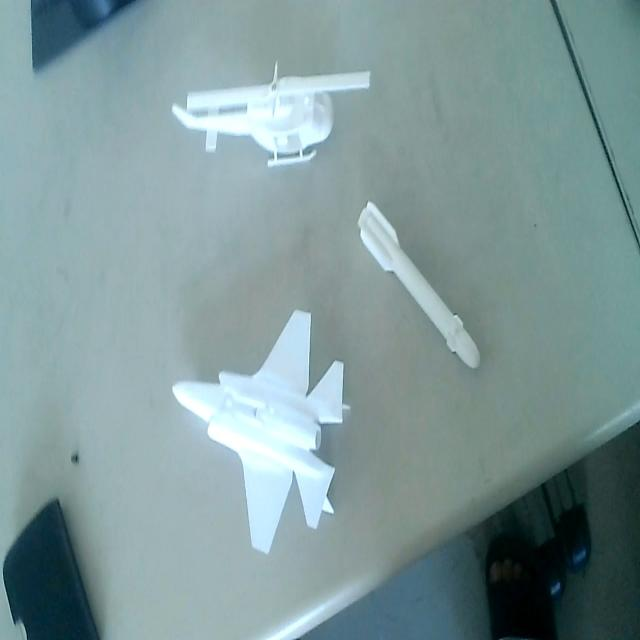Helicopter: (168, 58, 372, 178)
Jet: (170, 308, 352, 557)
Rocket: (357, 193, 481, 378)
